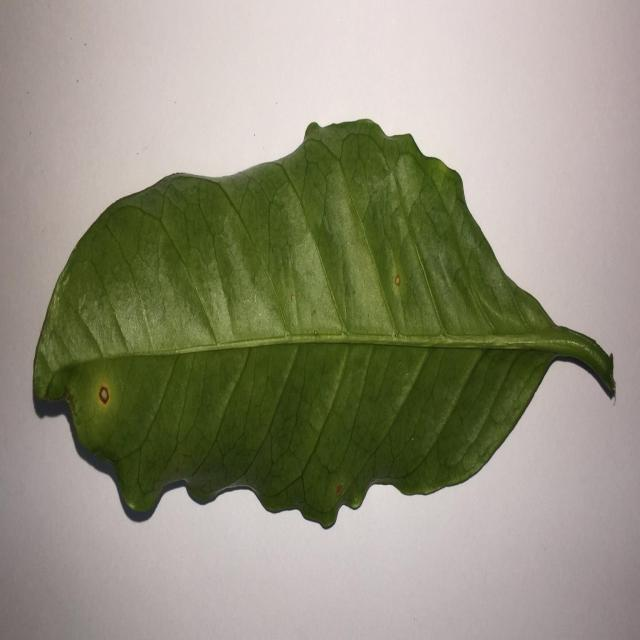Enfermedad-Mancha-de-hierro: (31, 119, 617, 531)
